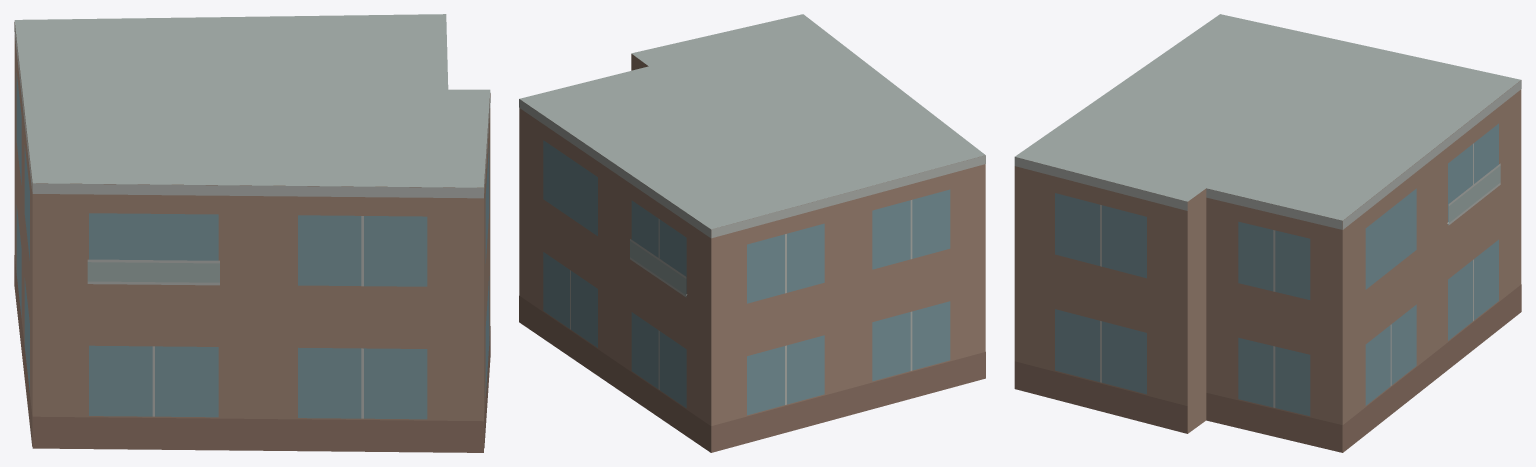
The model's file is survey-upis-32489447.glb.
3 renders of one model, left to right at view 1: azimuth 30°, elevation 25°; view 2: azimuth 150°, elevation 25°; view 3: azimuth 270°, elevation 25°, orthographic. The views are drawn at different scales.
Parts seen in each view (by area): view 1: survey-upis-32489447.tmp; view 2: survey-upis-32489447.tmp; view 3: survey-upis-32489447.tmp.
Part boxes in pixels (left/top/right/bottom): survey-upis-32489447.tmp: left=14, top=14, right=490, bottom=452; survey-upis-32489447.tmp: left=519, top=14, right=985, bottom=452; survey-upis-32489447.tmp: left=1014, top=14, right=1521, bottom=452.
Bounding box in the file's own units: 11.66 × 6.1 × 12.08.
